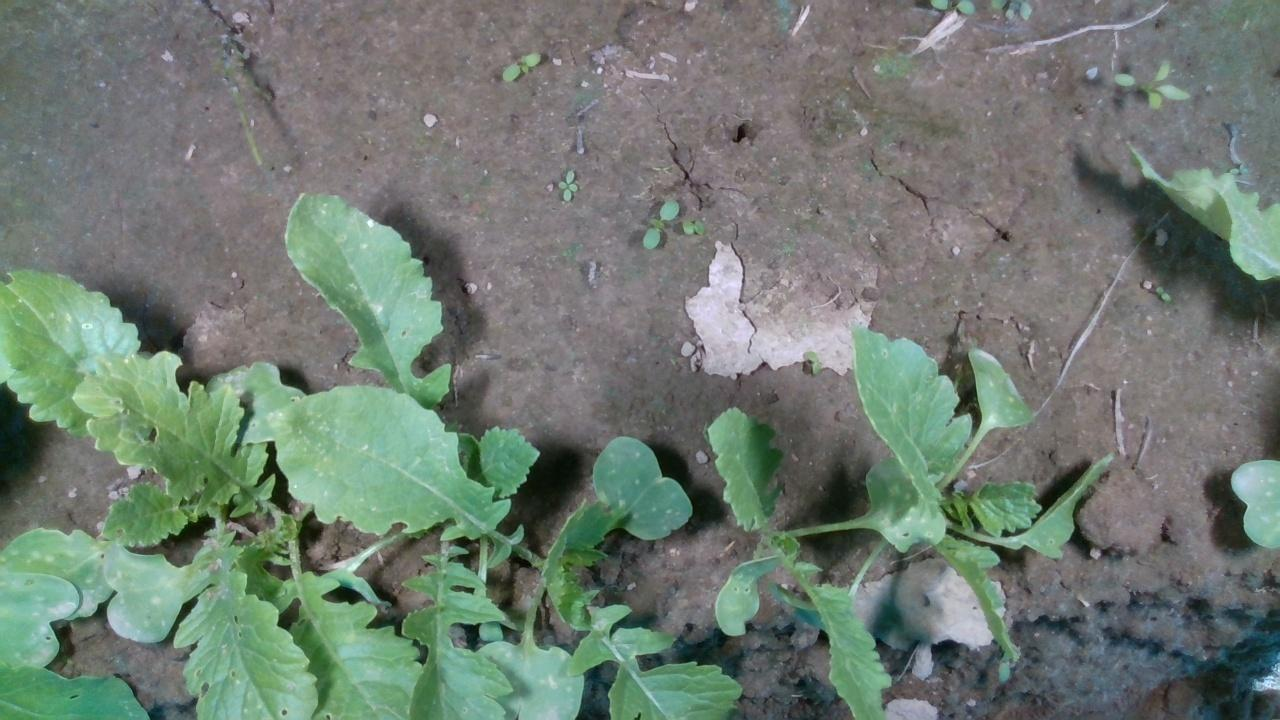weed: (640, 197, 680, 250), (498, 50, 541, 82), (555, 166, 580, 202), (680, 218, 706, 234), (1154, 284, 1170, 302)
